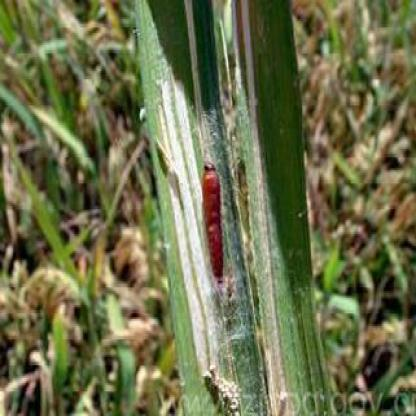leaf-folder: (189, 156, 231, 296)
